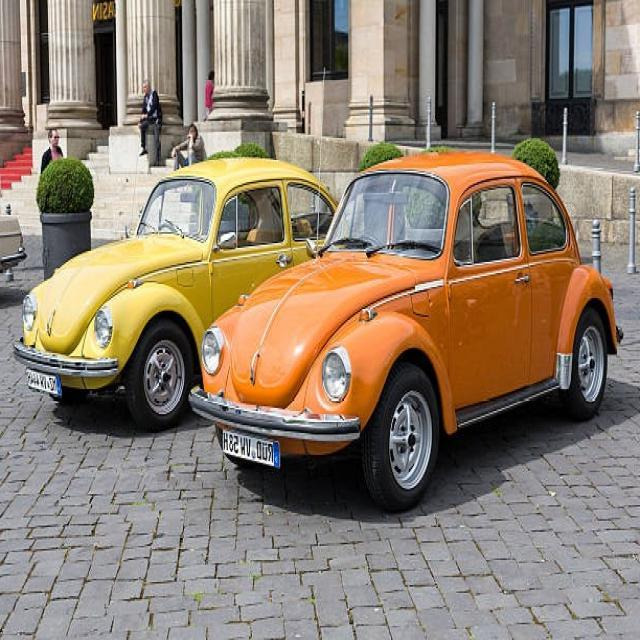car: (197, 153, 619, 494)
